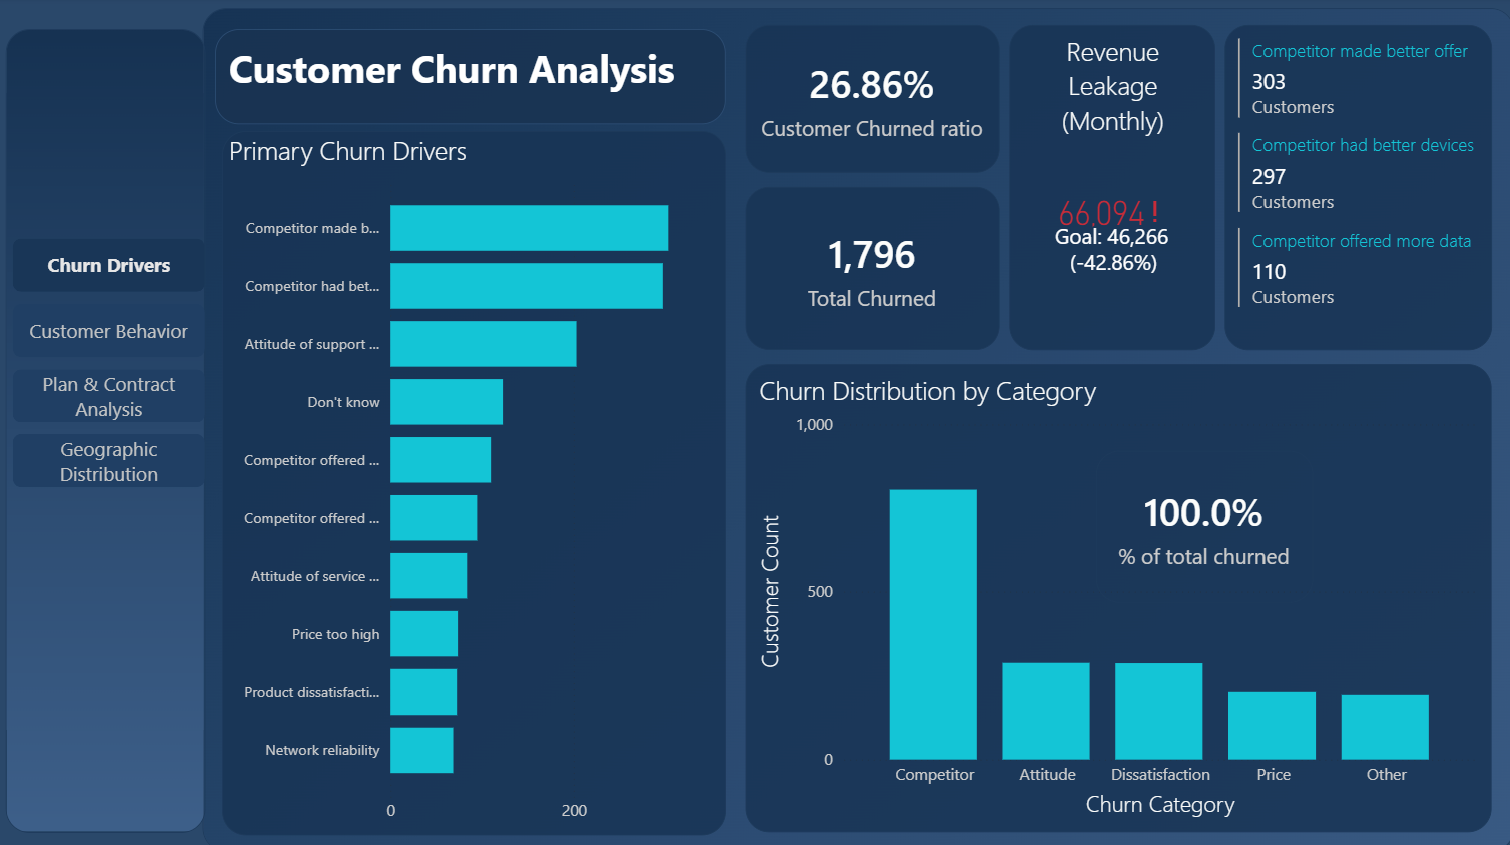

The page's visual inventory and layout, read from the dashboard file:
{"tool":"powerbi","page":{"name":"Churn Drivers","canvas":[1280,720],"ordinal":0},"visuals":[{"type":"image","box":[8.2,27.1,168.3,676.9],"z":0,"group":"g1"},{"type":"image","box":[174.2,9.4,1105.3,711],"z":1000},{"type":"clusteredColumnChart","title":"Churn Distribution by Category","fields":{"Category":["Dim_Churn.Churn Category","Dim_Churn.Churn Reason"],"Y":["CountNonNull(Dim_Churn.Customer ID)"]},"box":[632.1,309.6,628.6,394.3],"z":1500},{"type":"clusteredBarChart","title":"Primary Churn Drivers","fields":{"Category":["Dim_Churn.Churn Reason"],"Y":["CountNonNull(Fact_Subscriptions.Customer ID)"]},"box":[190.7,113,424.9,593.3],"z":2000},{"type":"multiRowCard","fields":{"Values":["Dim_Churn.Churn Reason","Dim_Churn.Customer ID"]},"box":[1035.9,23.5,224.8,274.3],"z":3000},{"type":"pageNavigator","box":[14.1,203.7,162.4,210.7],"z":3500,"group":"g1"},{"type":"card","fields":{"Values":["_Calculations.Churn Rate (Ignore Filter)"]},"box":[632.1,23.5,214.2,124.8],"z":4000},{"type":"card","fields":{"Values":["Dim_Churn.Total Churned"]},"box":[632.1,160.1,214.2,137.7],"z":5000},{"type":"kpi","title":"Revenue Leakage (Monthly)","fields":{"Indicator":["_Calculations.Revenue Loss"],"TrendLine":["Dim_Churn.Churn Label"],"Goal":["_Calculations.Target Revenue Loss"]},"box":[854.6,23.5,173,274.3],"z":6000},{"type":"card","fields":{"Values":["_Calculations.Churn Rate Segment"]},"box":[927.6,382.6,182.5,128.3],"z":7000},{"type":"textbox","box":[184.8,27.1,430.8,80],"z":8000},{"type":"group","id":"g1","title":"Group 1","box":[8.2,27.1,168.3,676.9],"z":9000}]}

Visuals, with their boxes in screenshot pixels (x1, y1, x2, y2), scaled from the page's 1280x720 canvas onto the 1510x845 screenshot:
image: bbox=(10, 32, 208, 826)
image: bbox=(206, 11, 1509, 844)
"Churn Distribution by Category" clusteredColumnChart: bbox=(746, 363, 1487, 826)
"Primary Churn Drivers" clusteredBarChart: bbox=(225, 133, 726, 829)
multiRowCard - Dim_Churn.Churn Reason x Dim_Churn.Customer ID: bbox=(1222, 28, 1487, 350)
pageNavigator: bbox=(17, 239, 208, 486)
card - _Calculations.Churn Rate (Ignore Filter): bbox=(746, 28, 998, 174)
card - Dim_Churn.Total Churned: bbox=(746, 188, 998, 350)
"Revenue Leakage (Monthly)" kpi: bbox=(1008, 28, 1212, 350)
card - _Calculations.Churn Rate Segment: bbox=(1094, 449, 1310, 600)
textbox: bbox=(218, 32, 726, 126)
"Group 1" group: bbox=(10, 32, 208, 826)
